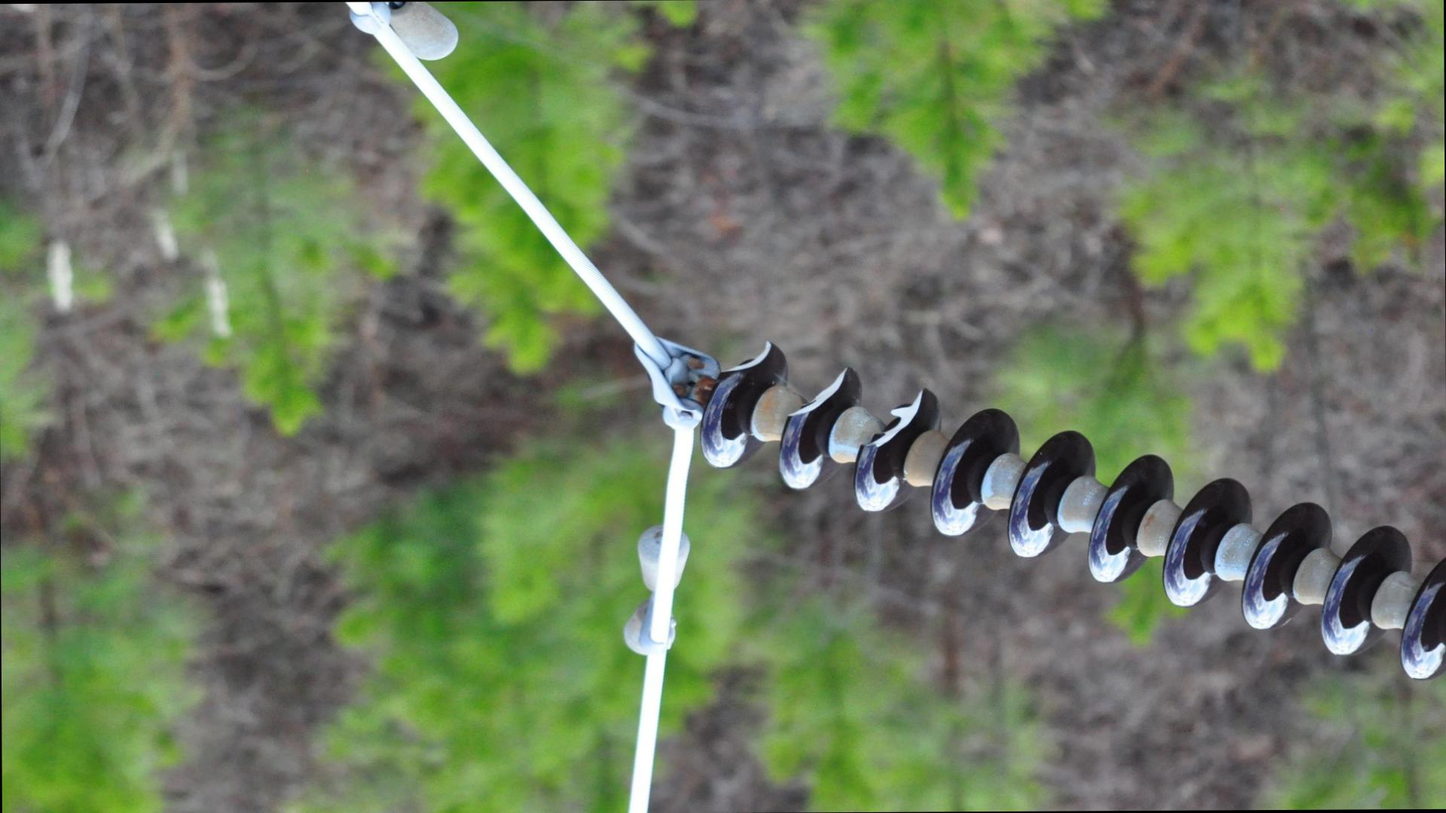damper: (618, 522, 695, 661)
